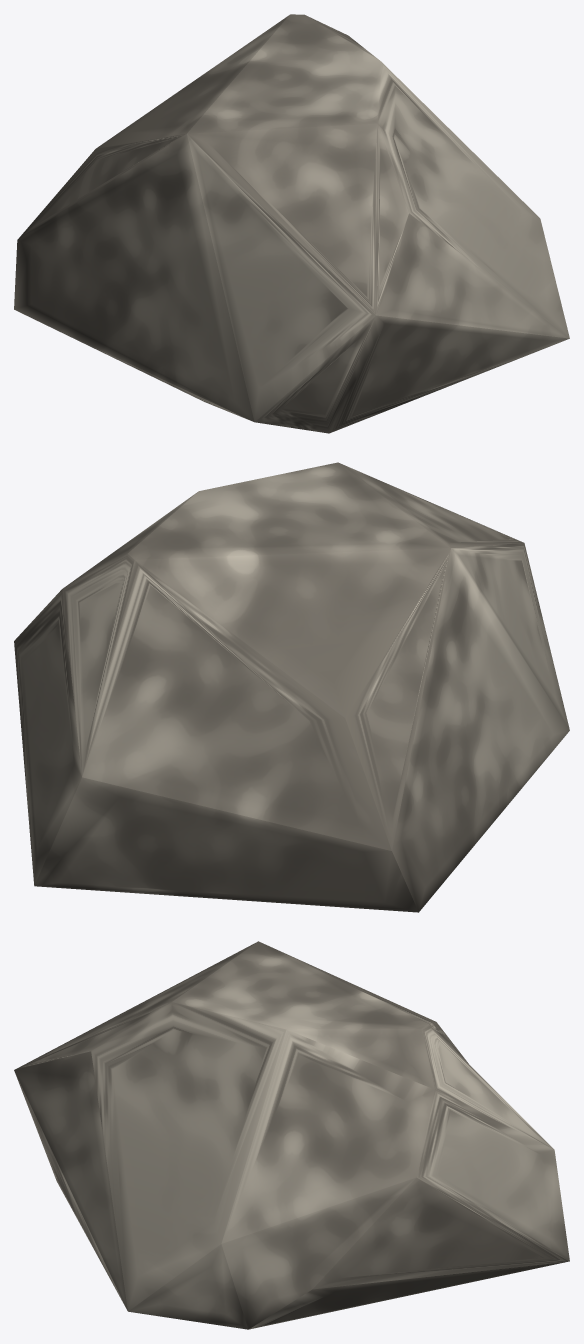
File: boulder_lp1.gltf
3 views of the same model, one above another, from view 1: azimuth 30°, elevation 25°; view 2: azimuth 150°, elevation 25°; view 3: azimuth 270°, elevation 25° (orthographic). The views are drawn at different scales.
Visible parts, largest first — view 1: boulder_lp1_stone_LOD0; view 2: boulder_lp1_stone_LOD0; view 3: boulder_lp1_stone_LOD0.
Part boxes in pixels (x1=…): boulder_lp1_stone_LOD0: x1=14, y1=14, x2=569, y2=433; boulder_lp1_stone_LOD0: x1=14, y1=462, x2=569, y2=912; boulder_lp1_stone_LOD0: x1=14, y1=941, x2=569, y2=1329.
Size of what is drawn, in the model's own units: 1.45 by 0.7861 by 1.7.
Materials: 1 (1 with a texture image).
